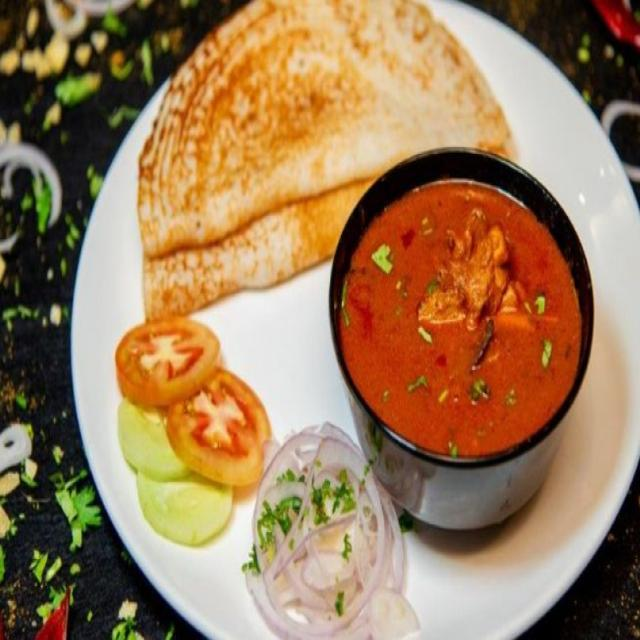DOSA: (140, 0, 510, 328)
FISH CURRY: (341, 177, 584, 464)
